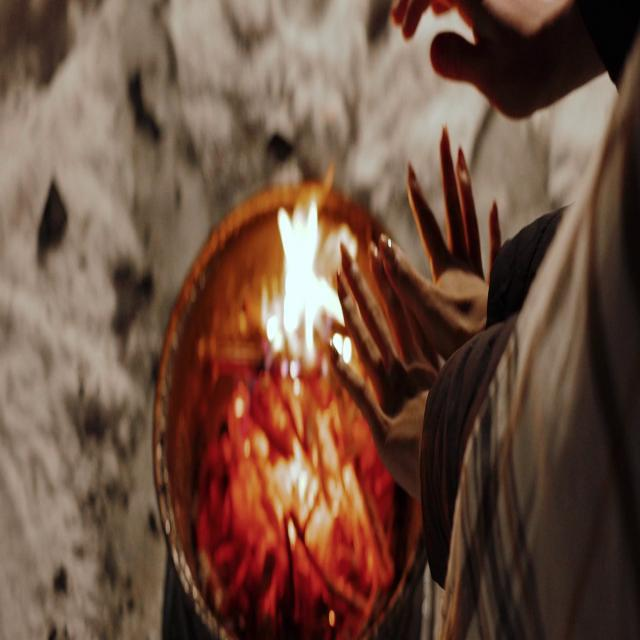Fire: (258, 167, 356, 531)
